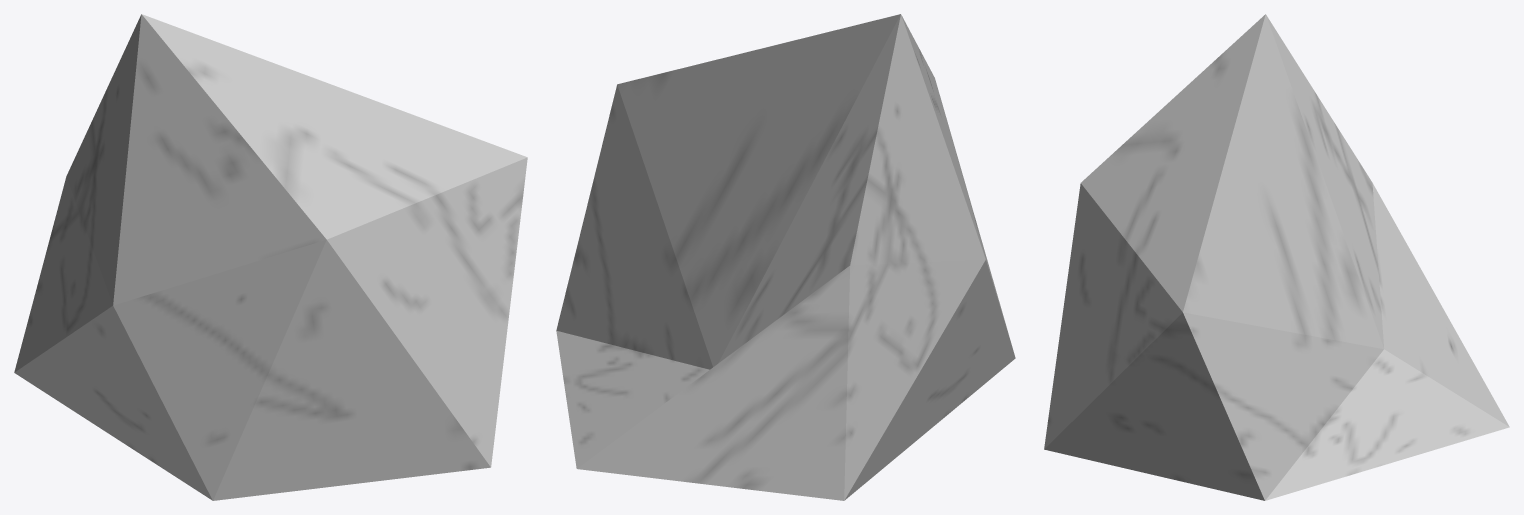
Rendered from rock_1.glb.
3 views of the same model, side by side, from view 1: azimuth 30°, elevation 25°; view 2: azimuth 150°, elevation 25°; view 3: azimuth 270°, elevation 25° (orthographic). The views are drawn at different scales.
Parts seen in each view (by area): view 1: Icosphere; view 2: Icosphere; view 3: Icosphere.
Boxes of the visible parts, x1,y1,x2,y2 form: Icosphere: [14, 14, 527, 500]; Icosphere: [556, 14, 1015, 500]; Icosphere: [1044, 14, 1509, 500].
Bounding box in the file's own units: 0.4647 × 0.4555 × 0.5461.
1 material, 1 textured.
